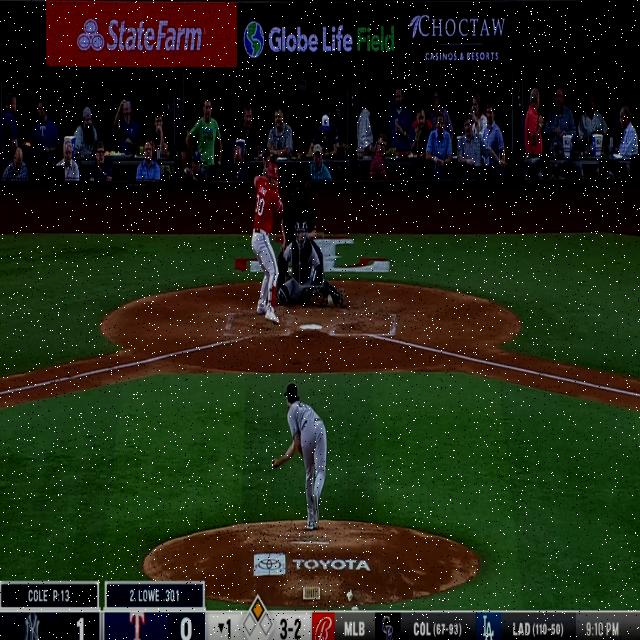baseball: (327, 294, 333, 304)
